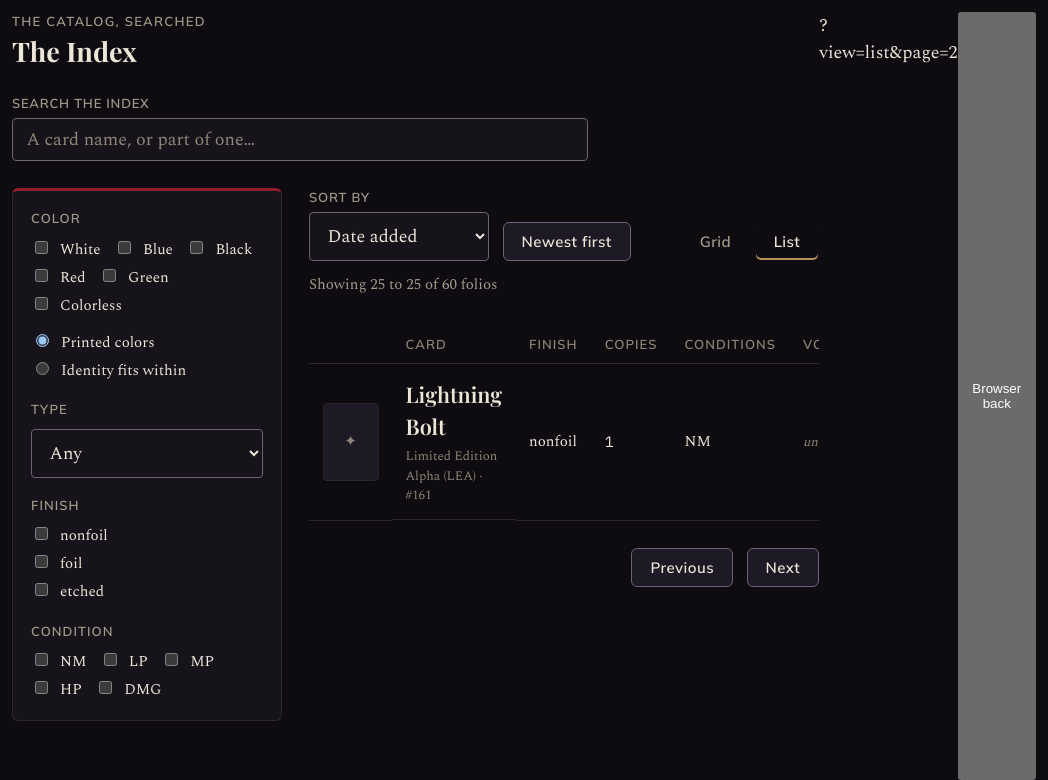
Test: IndexPage › rewrites the URL when a facet is checked, and goes back to page one
The image size is (1048, 780).
Click the checkbox labelled "foil".
click(42, 562)  # box [35,555,48,568]
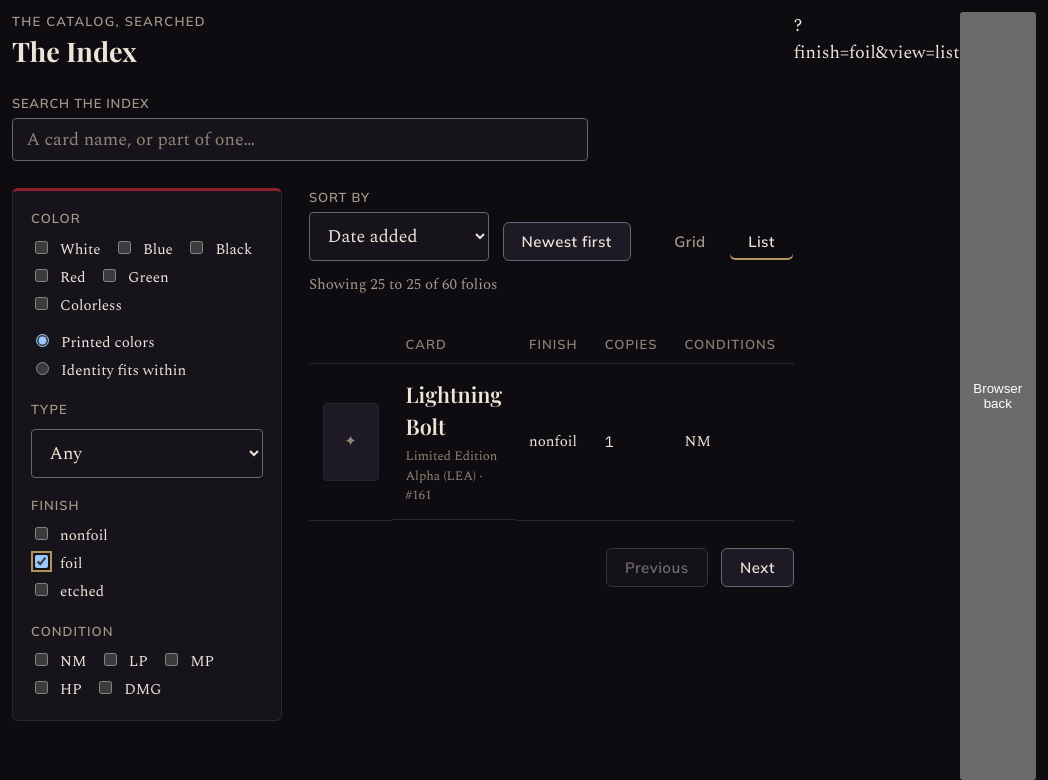
Check: the text named "Index URL" reads "?finish=foil&view=list", box [794,12,960,66]
